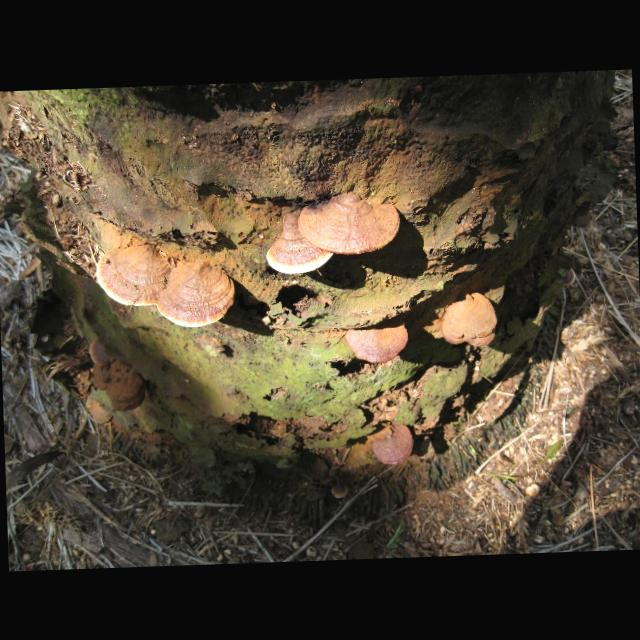ganoderma: (297, 190, 403, 259), (155, 259, 238, 331), (94, 241, 175, 310), (439, 291, 500, 352), (343, 323, 412, 368), (92, 363, 148, 414), (267, 238, 335, 277), (369, 424, 417, 468), (88, 337, 115, 370), (90, 399, 115, 425), (330, 481, 350, 502)
